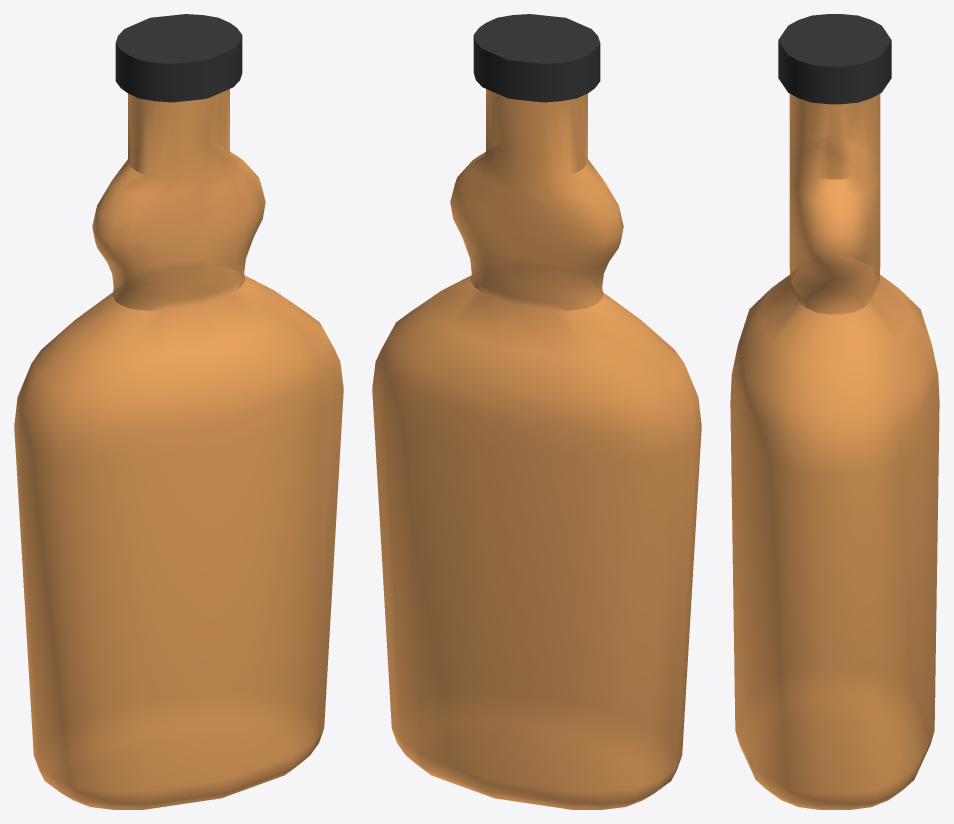
File: food_whiskey.fbx
The picture shows the model from 3 angles, left to right: view 1: azimuth 30°, elevation 25°; view 2: azimuth 150°, elevation 25°; view 3: azimuth 270°, elevation 25°; orthographic projection.
Parts seen in each view (by area): view 1: food_whiskey; view 2: food_whiskey; view 3: food_whiskey.
Boxes of the visible parts, left/top/right/bottom form: food_whiskey: left=14, top=14, right=343, bottom=809; food_whiskey: left=372, top=14, right=701, bottom=809; food_whiskey: left=730, top=14, right=939, bottom=809.
Size of the model in its own units: 13.4 by 30.91 by 8.15.
